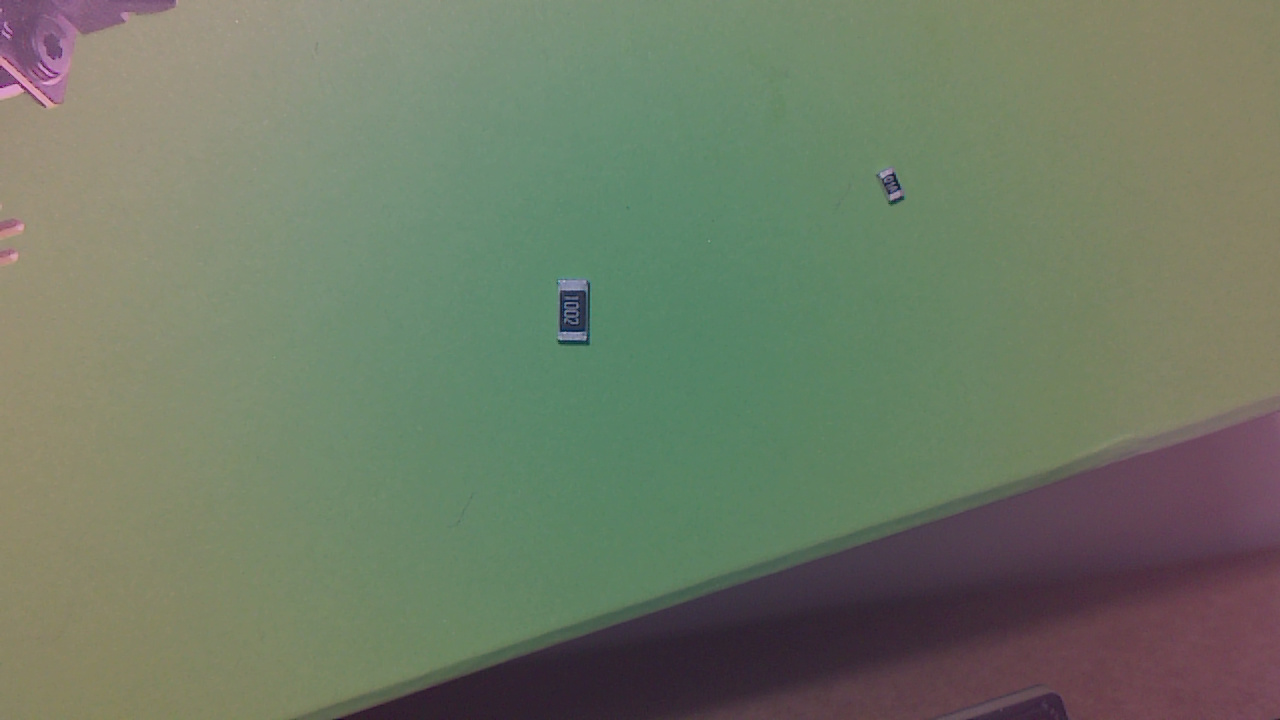Resistor: (561, 283, 595, 352), (878, 172, 910, 210)
